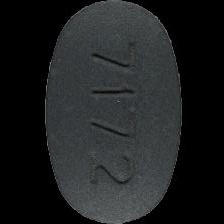50436-0264: (0, 0, 224, 224)
